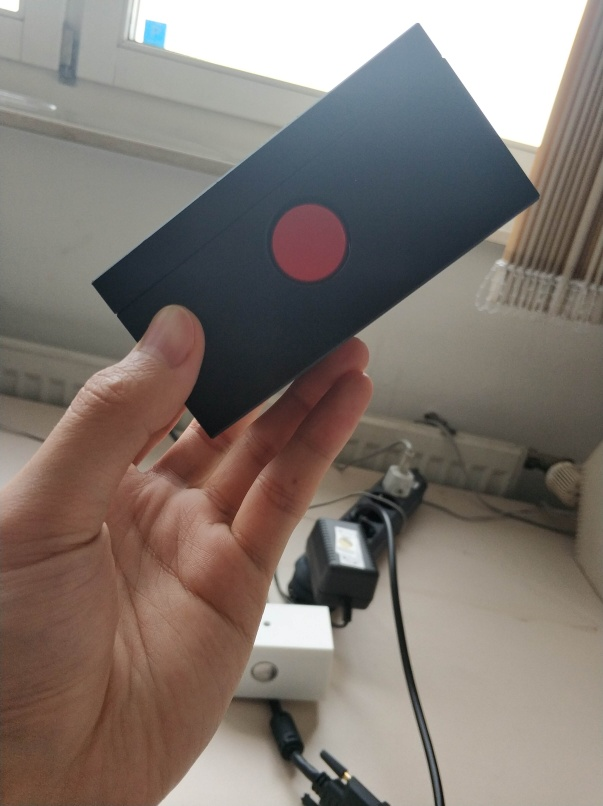black+black+red: (88, 20, 545, 442)
